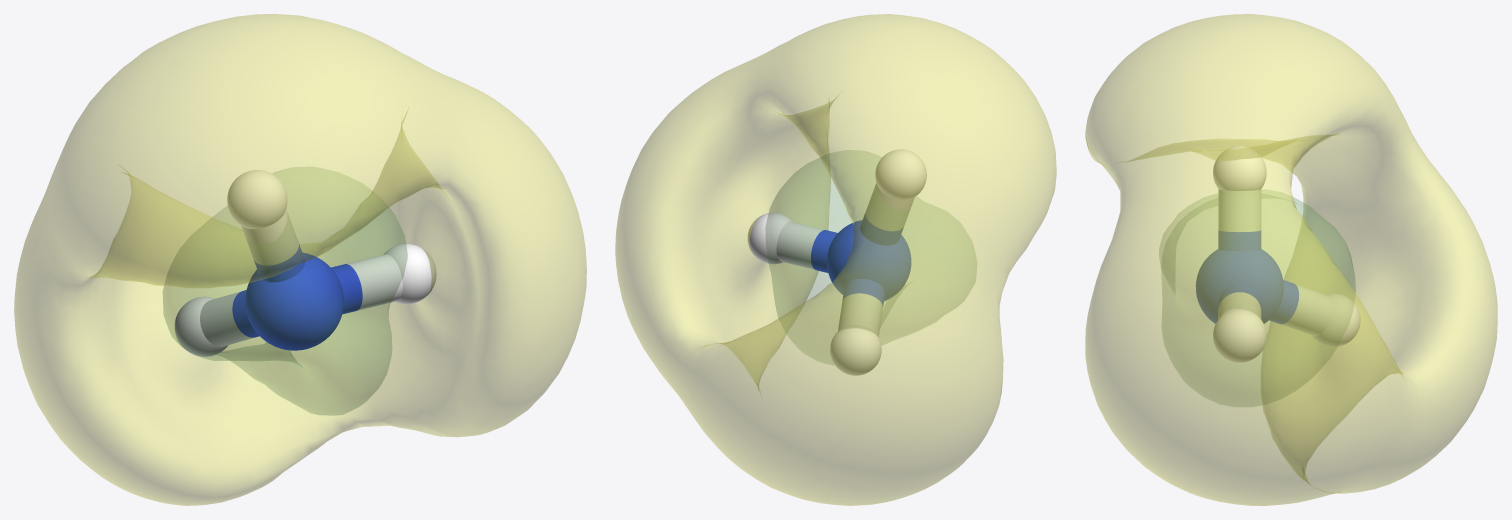
3 views of the same model, side by side, from view 1: azimuth 30°, elevation 25°; view 2: azimuth 150°, elevation 25°; view 3: azimuth 270°, elevation 25° (orthographic). The views are drawn at different scales.
Visible parts, largest first — view 1: surface (×2), atoms, bonds; view 2: surface (×2), atoms, bonds; view 3: surface (×2), atoms, bonds.
Boxes of the visible parts, x1=… form: surface (×2): x1=14, y1=14, x2=586, y2=505; atoms: x1=175, y1=170, x2=436, y2=356; bonds: x1=200, y1=209, x2=402, y2=346; surface (×2): x1=615, y1=14, x2=1056, y2=505; atoms: x1=747, y1=149, x2=926, y2=375; bonds: x1=776, y1=183, x2=914, y2=336; surface (×2): x1=1085, y1=14, x2=1497, y2=505; atoms: x1=1196, y1=146, x2=1360, y2=362; bonds: x1=1218, y1=189, x2=1332, y2=335.
Size of the model in its own units: 4.49 by 4.57 by 3.84.
